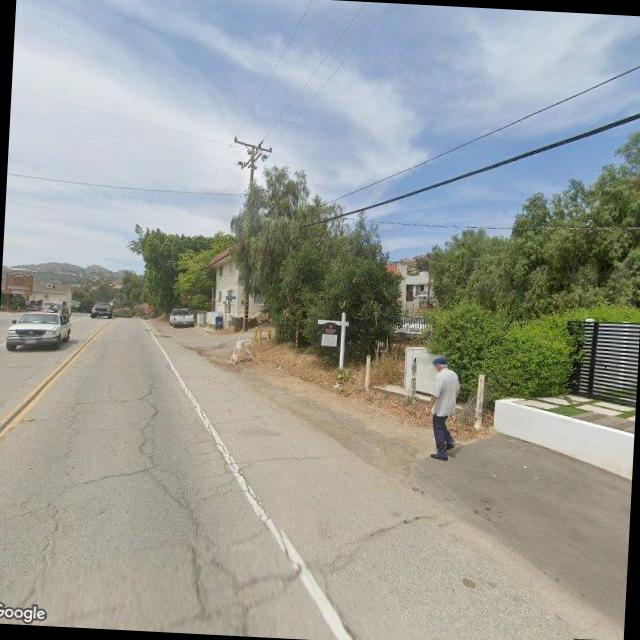crack: (6, 364, 316, 638), (25, 484, 69, 606), (232, 442, 346, 472), (132, 380, 166, 470)
